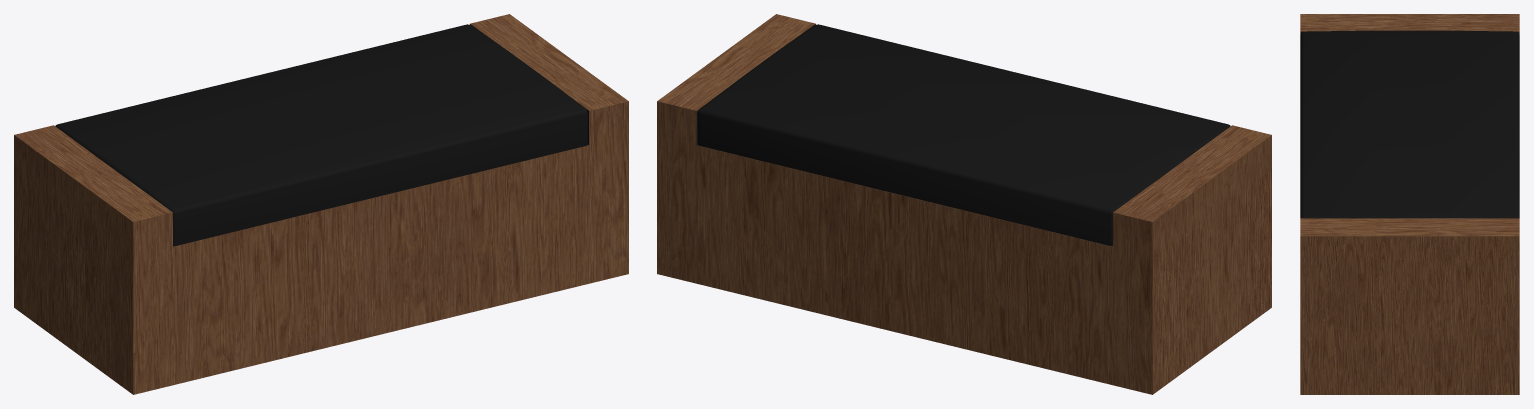
File: LC_3053_benchA_LOD1.fbx
3 renders of one model, left to right at view 1: azimuth 30°, elevation 25°; view 2: azimuth 150°, elevation 25°; view 3: azimuth 270°, elevation 25°, orthographic. The views are drawn at different scales.
Visible parts, largest first — view 1: LC_3053_benchA_LOD1; view 2: LC_3053_benchA_LOD1; view 3: LC_3053_benchA_LOD1.
Part boxes in pixels (bbox=[...]): LC_3053_benchA_LOD1: bbox=[14, 14, 628, 394]; LC_3053_benchA_LOD1: bbox=[657, 14, 1271, 394]; LC_3053_benchA_LOD1: bbox=[1300, 14, 1519, 394].
Bounding box in the file's own units: 120 × 40.56 × 50.
Materials: 1 (1 with a texture image).
